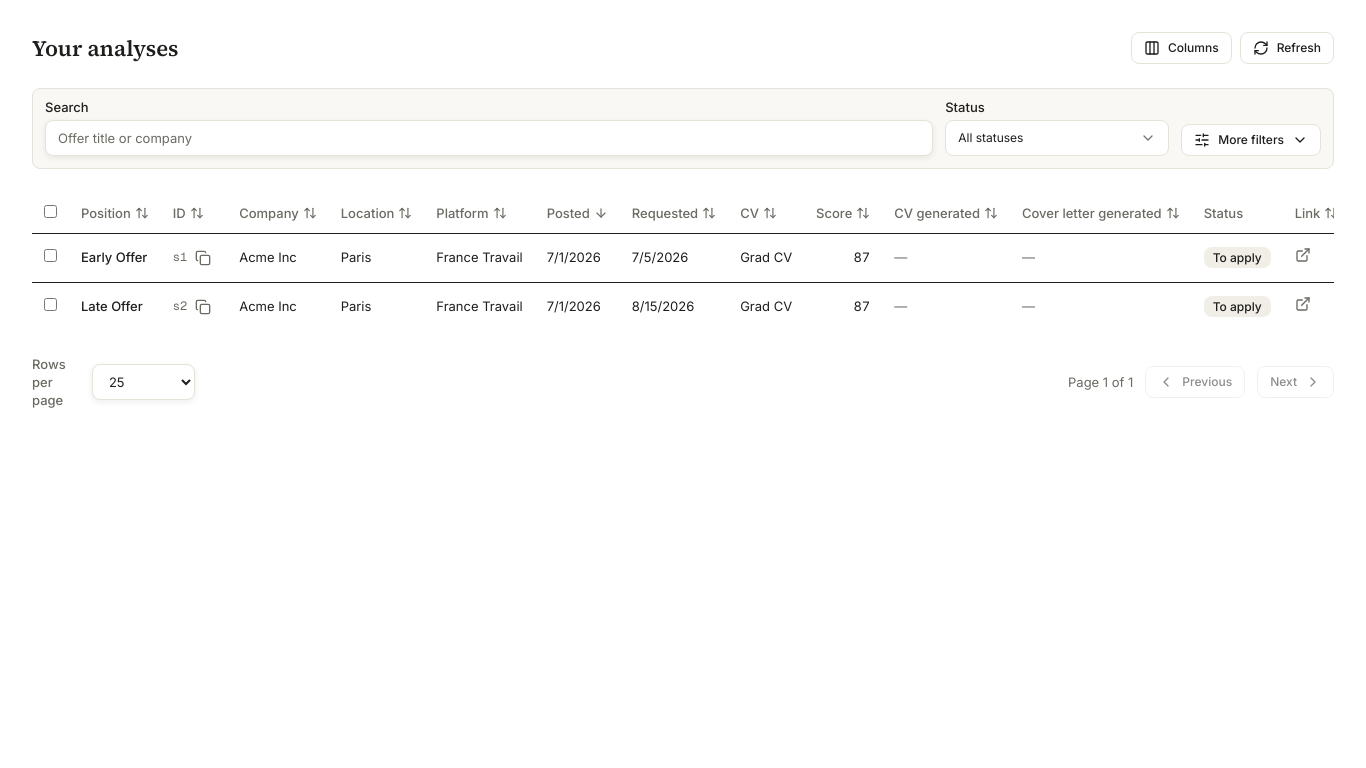
Test: AnalysesDashboardPage › filters by the requestedAt range (issue #172)
Check: the text "Early Offer" is shown, box [69, 233, 161, 282]
Click the button "More filters" at (1251, 140), box [1181, 124, 1321, 156]
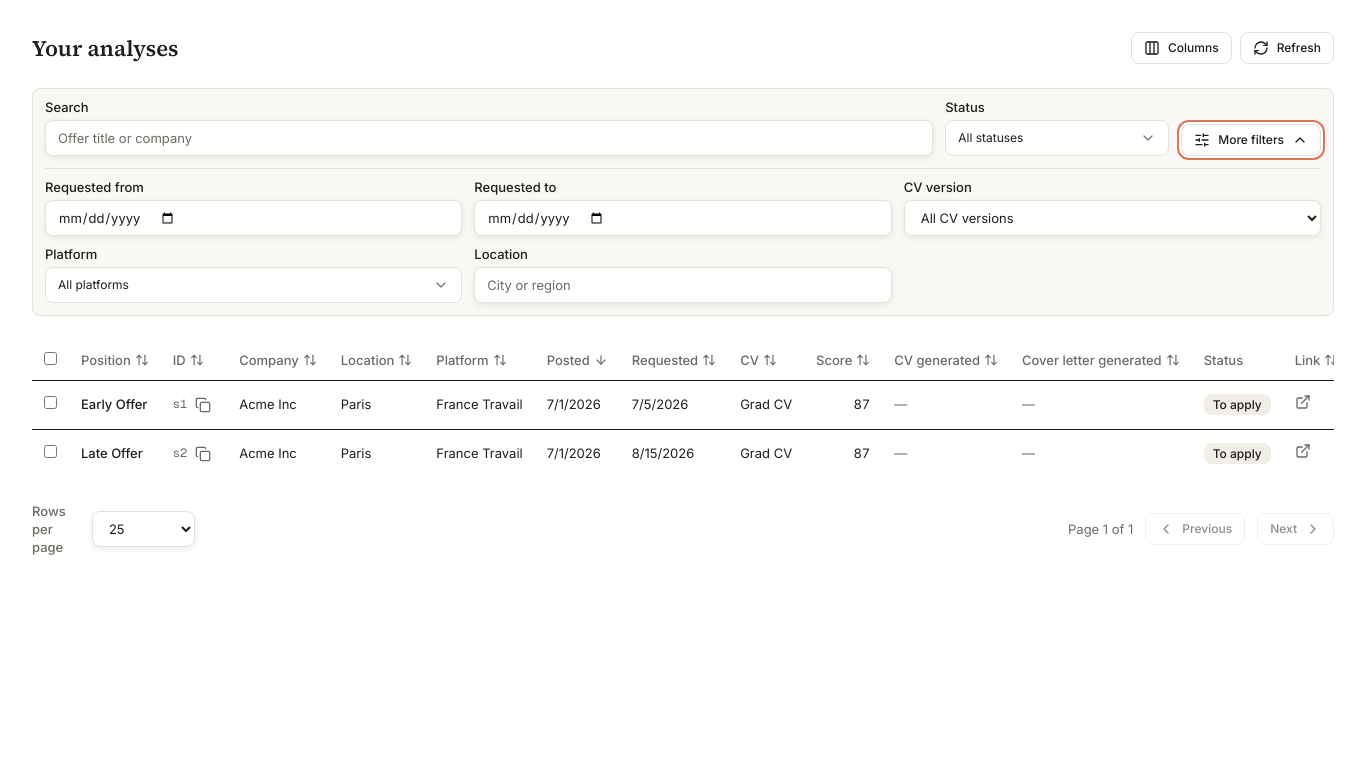
Type "2026-08-01" into the date field labelled "Requested from" at (254, 218), box [45, 200, 462, 236]
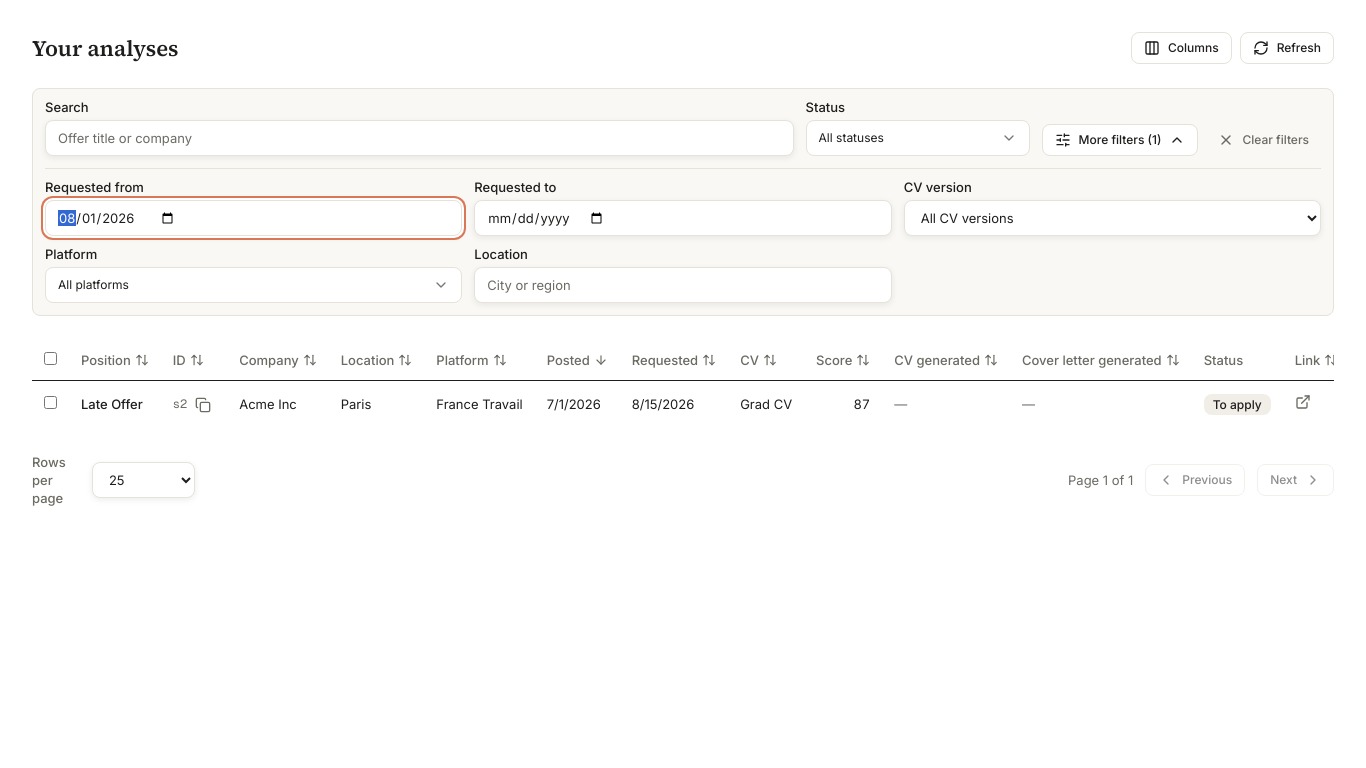
Check: the text "Late Offer" is shown, box [69, 380, 161, 428]
Check: the text "Early Offer" is gone
